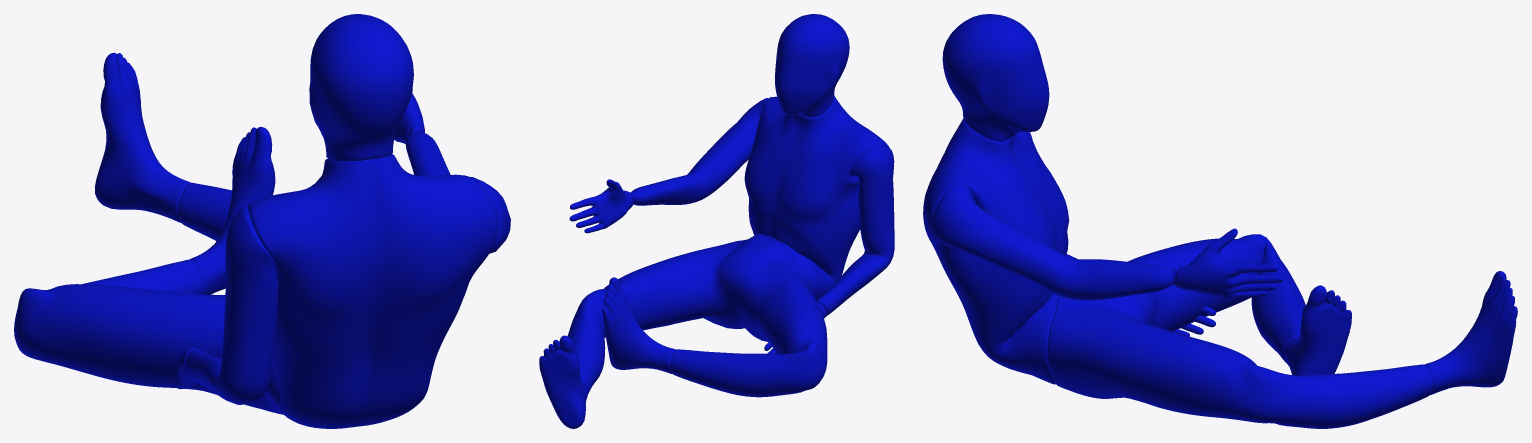
The model's file is SofiaChambre.obj.
3 renders of one model, left to right at view 1: azimuth 30°, elevation 25°; view 2: azimuth 150°, elevation 25°; view 3: azimuth 270°, elevation 25°, orthographic. The views are drawn at different scales.
Parts seen in each view (by area): view 1: Ch36_Mesh; view 2: Ch36_Mesh; view 3: Ch36_Mesh.
Boxes of the visible parts, <box> form: Ch36_Mesh: <box>14,14,510,428</box>; Ch36_Mesh: <box>539,14,894,428</box>; Ch36_Mesh: <box>923,14,1517,428</box>.
Bounding box in the file's own units: 0.5894 × 0.6571 × 0.9944.
